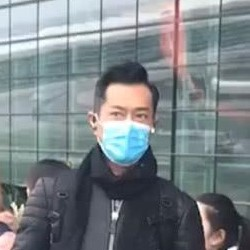mask: (93, 115, 151, 164)
